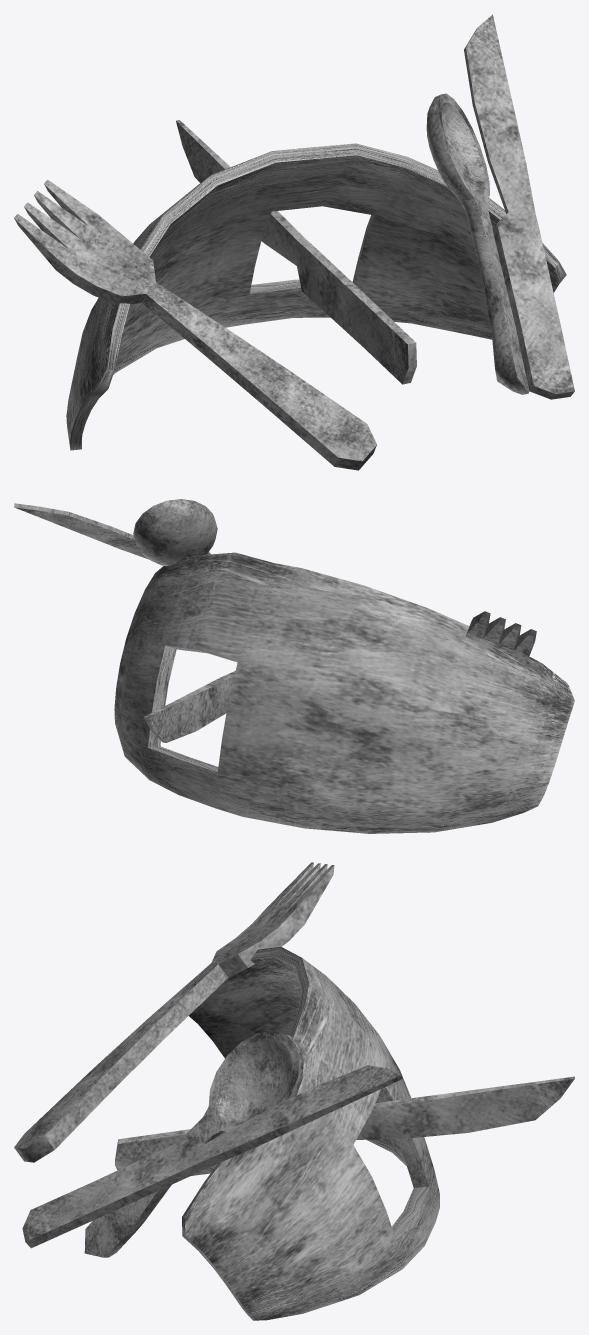
File: ArmureMetal_A.obj
3 views of the same model, one above another, from view 1: azimuth 30°, elevation 25°; view 2: azimuth 150°, elevation 25°; view 3: azimuth 270°, elevation 25° (orthographic). The views are drawn at different scales.
Visible parts, largest first — view 1: Armure_de_metal005; view 2: Armure_de_metal005; view 3: Armure_de_metal005.
Boxes of the visible parts, x1=… form: Armure_de_metal005: x1=14, y1=14, x2=574, y2=470; Armure_de_metal005: x1=14, y1=499, x2=574, y2=833; Armure_de_metal005: x1=14, y1=862, x2=574, y2=1320.
Size of the model in its own units: 111 by 54.31 by 102.
1 material, 1 textured.
